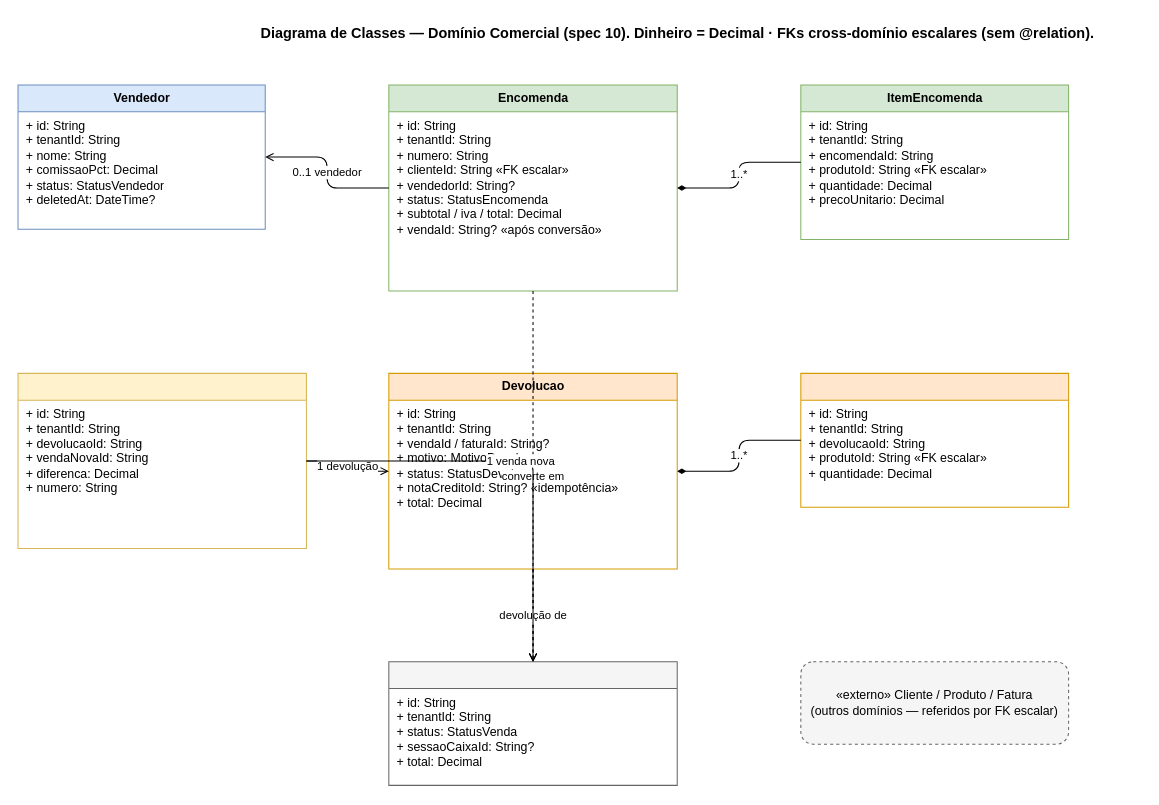
This 1159x805 diagram has some shape labels left out. The shapes that lost their labels are listed below. From the top down, each one's box as (x1, y1, x2, y2) in pixels, then its label:
(800, 372, 1069, 507): ItemDevolucao
(17, 372, 306, 548): Troca
(388, 661, 677, 785): Venda «existente»
